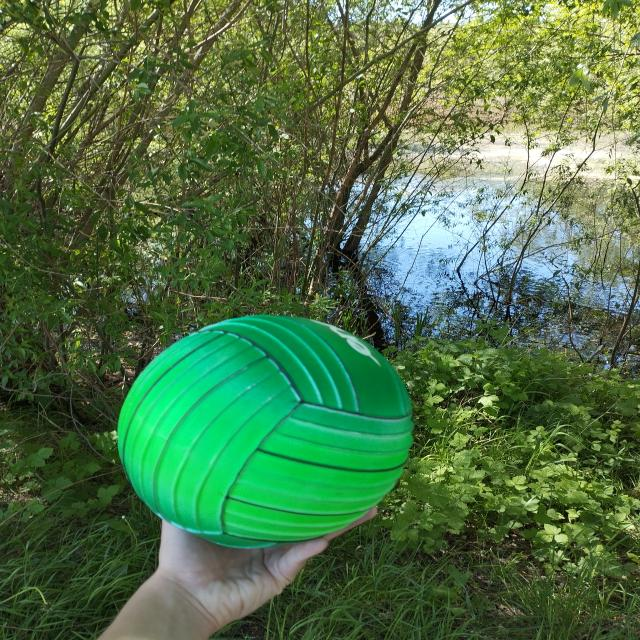zielona: (117, 316, 416, 548)
